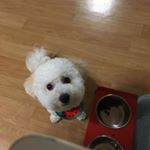puppy: (17, 45, 90, 123)
